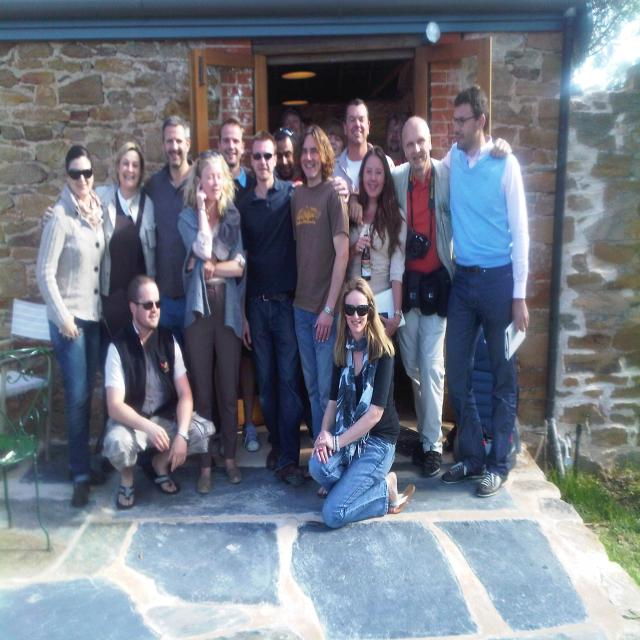body: (347, 113, 512, 479), (38, 138, 159, 472), (440, 84, 530, 499), (100, 270, 218, 512), (306, 273, 416, 531), (34, 142, 109, 510), (232, 128, 307, 492), (175, 145, 247, 496), (288, 123, 352, 504), (217, 115, 261, 453), (141, 113, 201, 356), (343, 145, 409, 340), (332, 98, 396, 194), (279, 115, 409, 151), (271, 125, 304, 182)
